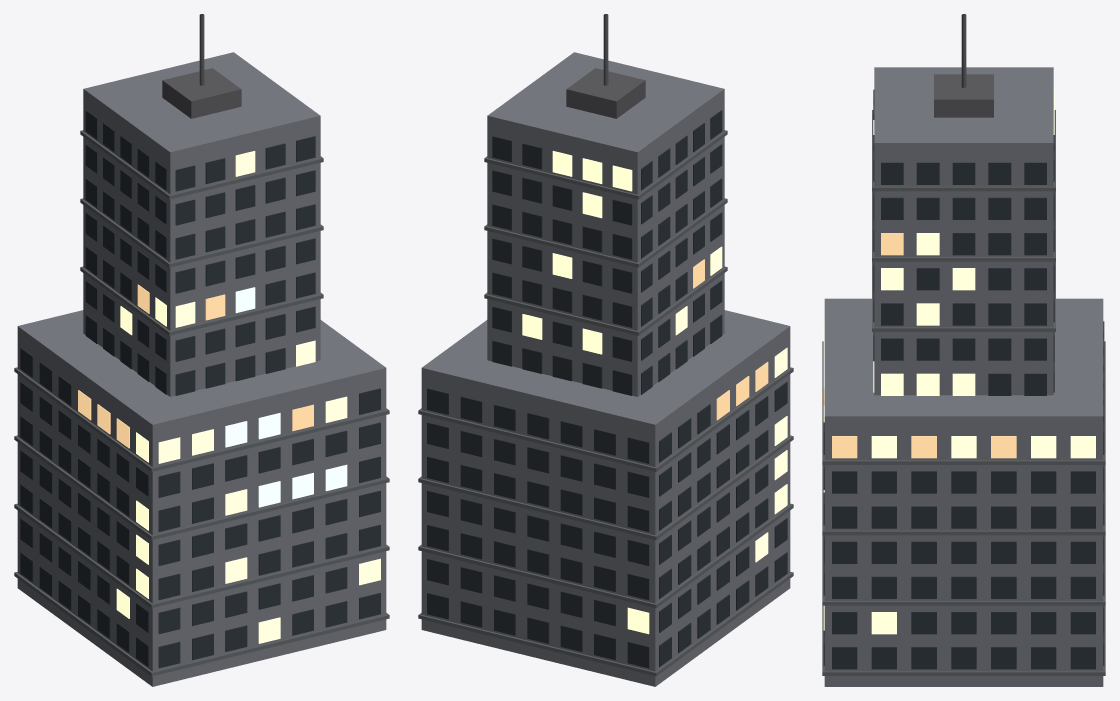
The model's file is block3.glb.
The picture shows the model from 3 angles, left to right: view 1: azimuth 30°, elevation 25°; view 2: azimuth 150°, elevation 25°; view 3: azimuth 270°, elevation 25°; orthographic projection. The views are drawn at different scales.
Visible parts, largest first — view 1: Block3; view 2: Block3; view 3: Block3.
Part boxes in pixels (left/top/right/bottom): Block3: left=14, top=14, right=389, bottom=686; Block3: left=418, top=14, right=793, bottom=686; Block3: left=822, top=14, right=1105, bottom=686.
Bounding box in the file's own units: 28.5 × 68 × 28.5.
